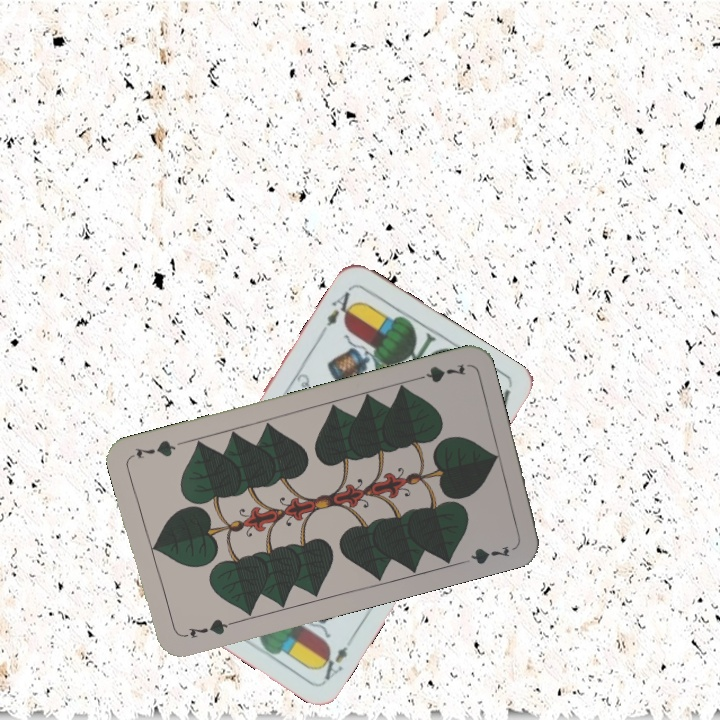EA: (316, 284, 359, 338), (314, 631, 357, 683)
G7: (178, 614, 236, 642), (409, 360, 468, 386)
